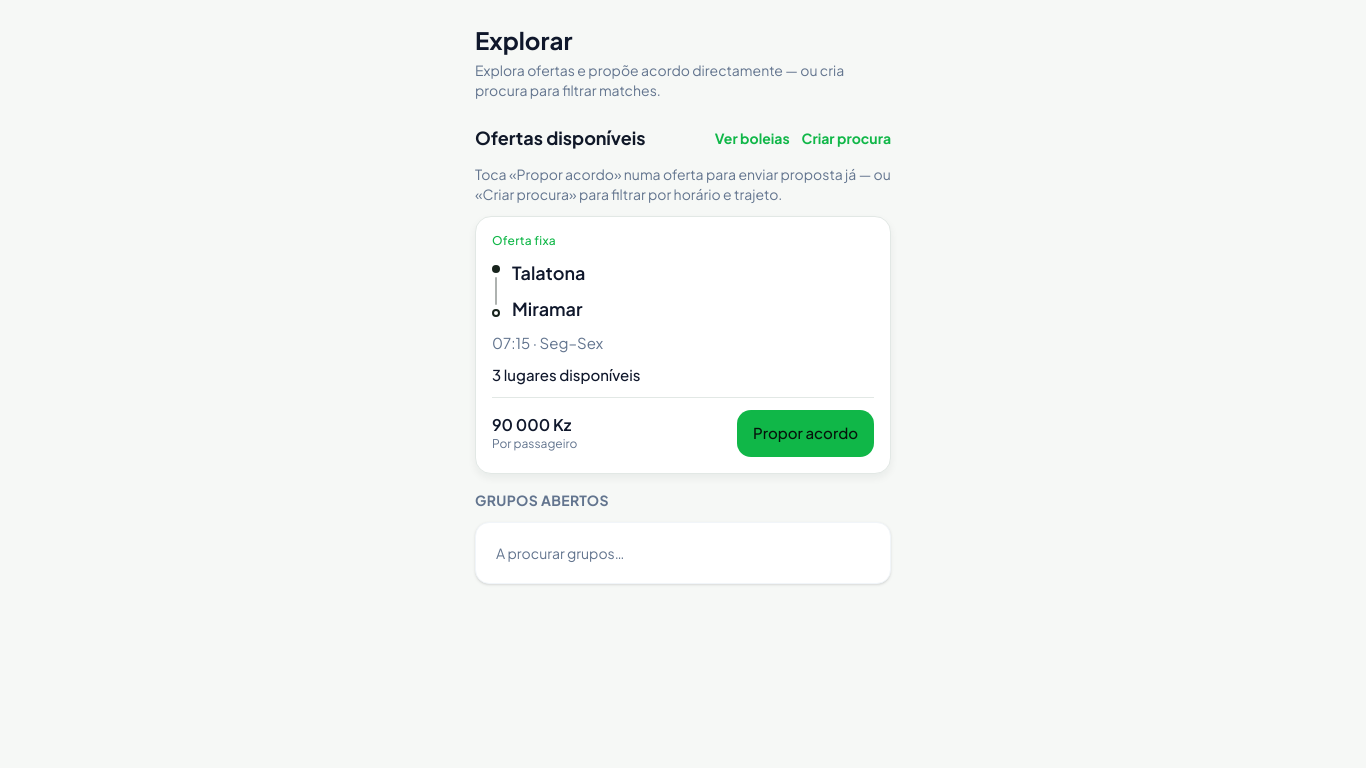
Scenario: PACOTE #23 — propor acordo no browse › follow-up Critiquito/Joaquim › oferta fixa incompleta: abre sheet propor-browse
This screenshot has width=1366, height=768.
What coordinates should you click on to do the following:
click the button "Propor acordo"
I would click on:
 (806, 433)
Its box is x1=737 y1=410 x2=874 y2=456.
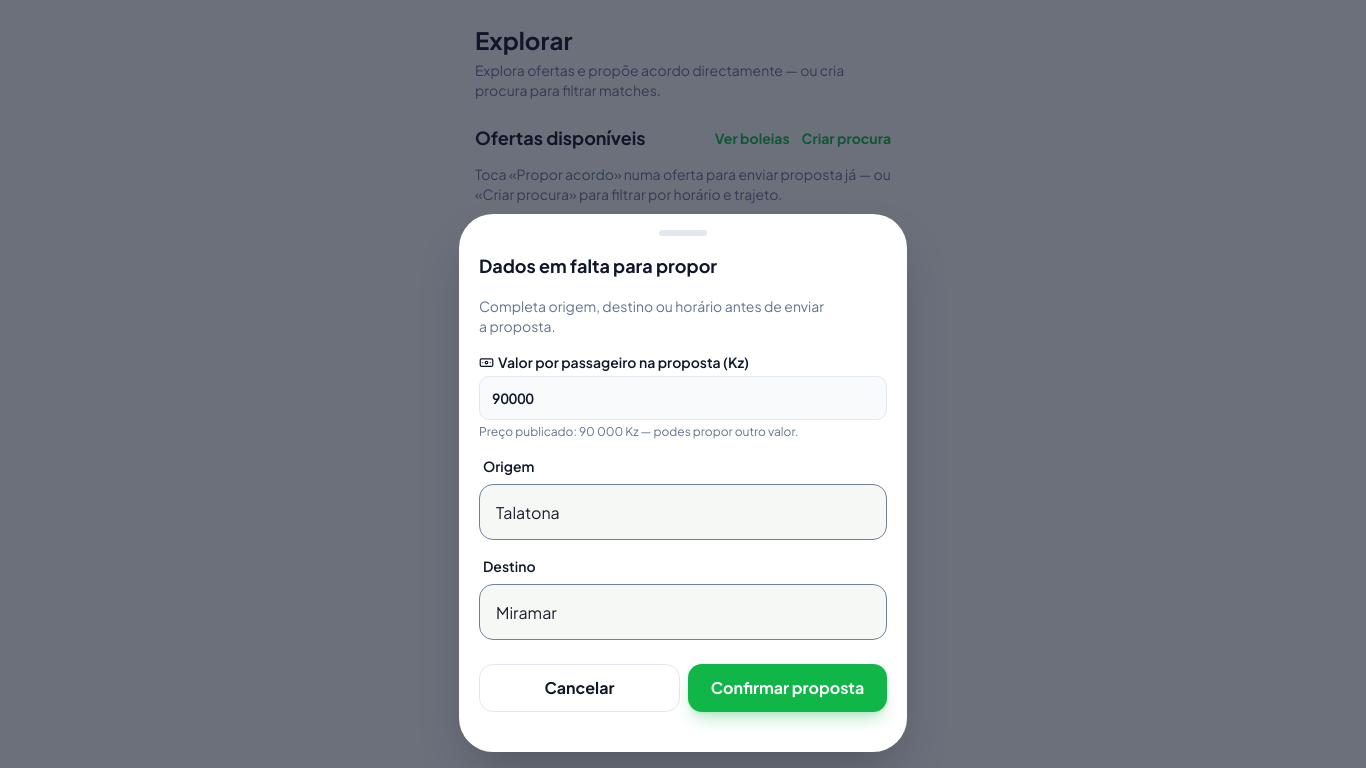
Result: the element with test id "propor-browse-sheet" is shown
